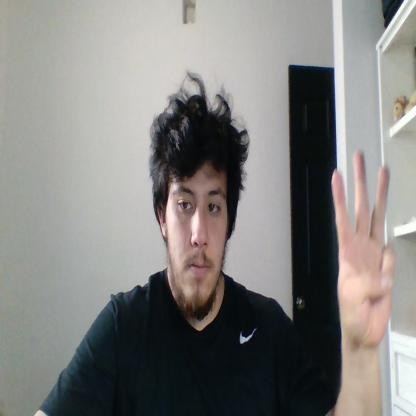W: (331, 150, 396, 346)
